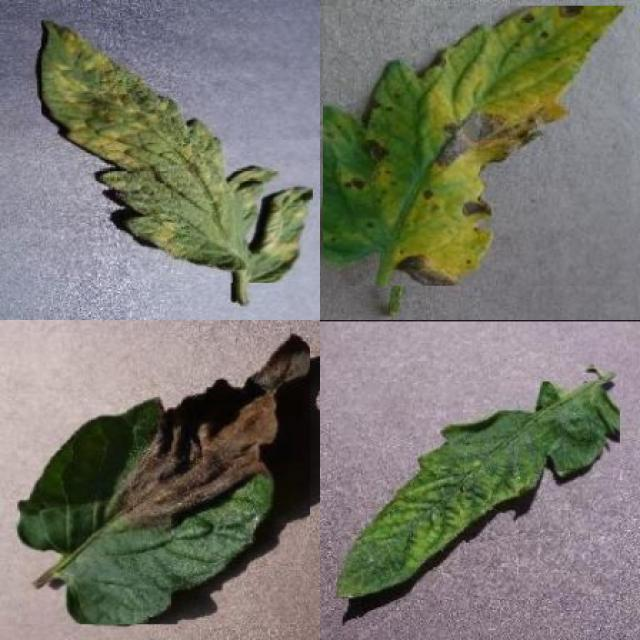Early Blight: (322, 7, 632, 286)
Late Blight: (17, 333, 310, 624)
Leaf Mold: (41, 17, 313, 283)
Mosaic Virus: (336, 382, 620, 599)
